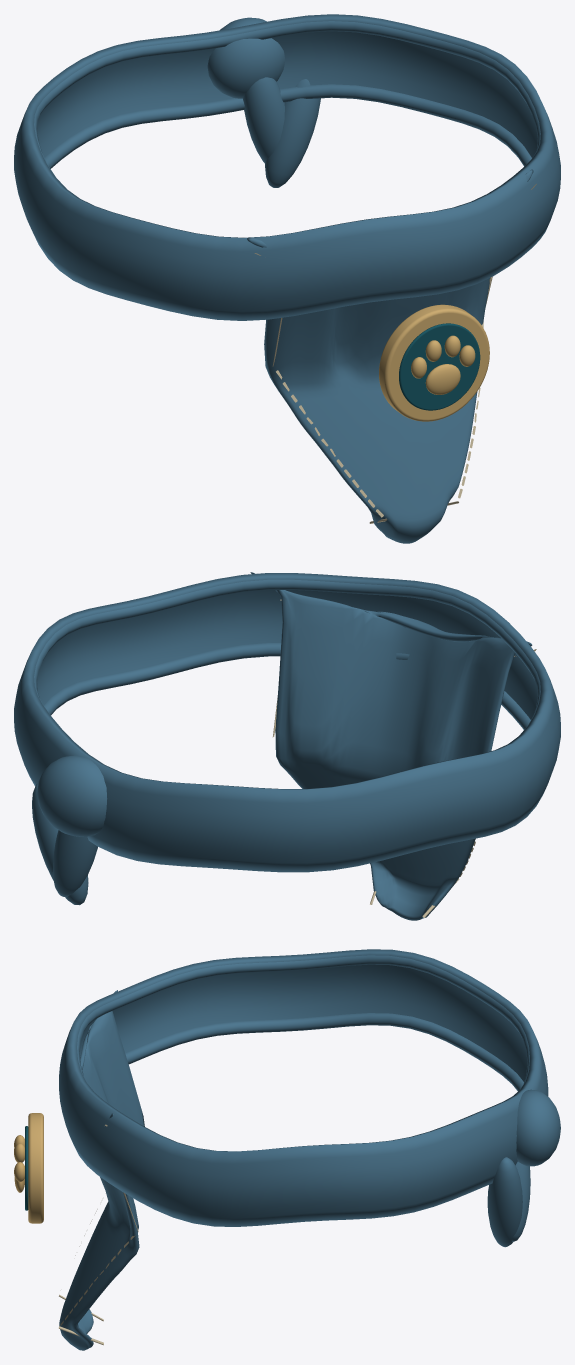
Rendered from nemo_travel_outfit.glb.
The picture shows the model from 3 angles, top to bottom: view 1: azimuth 30°, elevation 25°; view 2: azimuth 150°, elevation 25°; view 3: azimuth 270°, elevation 25°; orthographic projection. The views are drawn at different scales.
Visible parts, largest first — view 1: nemo_travel_outfit__WovenCloth_TravelBlue, nemo_travel_outfit__SatinBrass_PawBrooch, nemo_travel_outfit__Enamel_InsetShadow, nemo_travel_outfit__WovenCloth_LinenStitch; view 2: nemo_travel_outfit__WovenCloth_TravelBlue; view 3: nemo_travel_outfit__WovenCloth_TravelBlue, nemo_travel_outfit__SatinBrass_PawBrooch.
Part boxes in pixels (x1,y1,x2,y2): nemo_travel_outfit__WovenCloth_TravelBlue: [14, 14, 560, 543]; nemo_travel_outfit__SatinBrass_PawBrooch: [379, 304, 489, 421]; nemo_travel_outfit__Enamel_InsetShadow: [399, 323, 480, 410]; nemo_travel_outfit__WovenCloth_LinenStitch: [254, 184, 536, 523]; nemo_travel_outfit__WovenCloth_TravelBlue: [14, 572, 560, 920]; nemo_travel_outfit__WovenCloth_TravelBlue: [59, 949, 560, 1350]; nemo_travel_outfit__SatinBrass_PawBrooch: [14, 1113, 43, 1223].
Bounding box in the file's own units: 0.9064 × 0.6131 × 0.9898.
